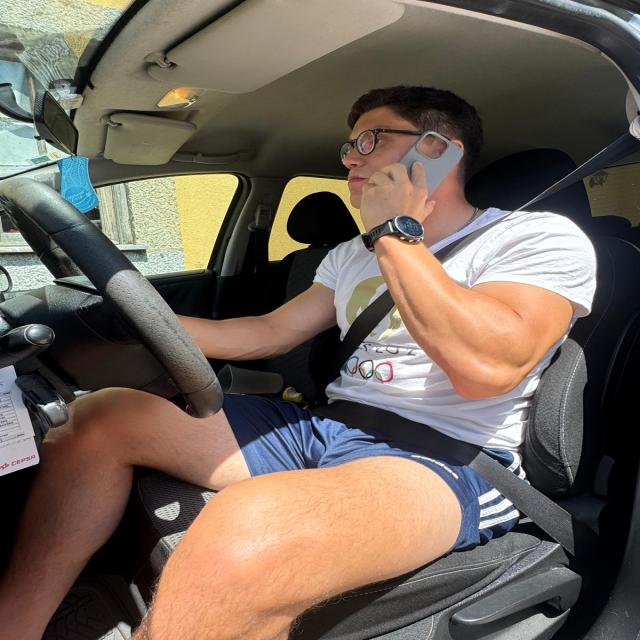Phone: (354, 115, 484, 231)
Seatbelt: (254, 135, 640, 554)
